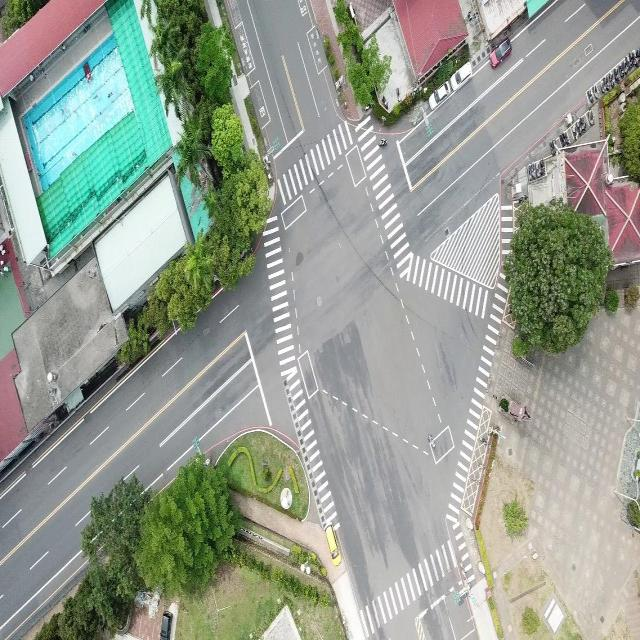bike: (547, 140, 557, 157), (426, 434, 436, 451), (557, 132, 567, 148), (394, 86, 402, 105), (587, 110, 595, 128), (577, 115, 585, 132), (570, 124, 578, 140), (478, 436, 488, 446), (587, 89, 593, 105)
car: (447, 61, 481, 89), (422, 87, 452, 111), (489, 37, 512, 68), (325, 523, 341, 566), (158, 607, 177, 640), (378, 138, 387, 147)
